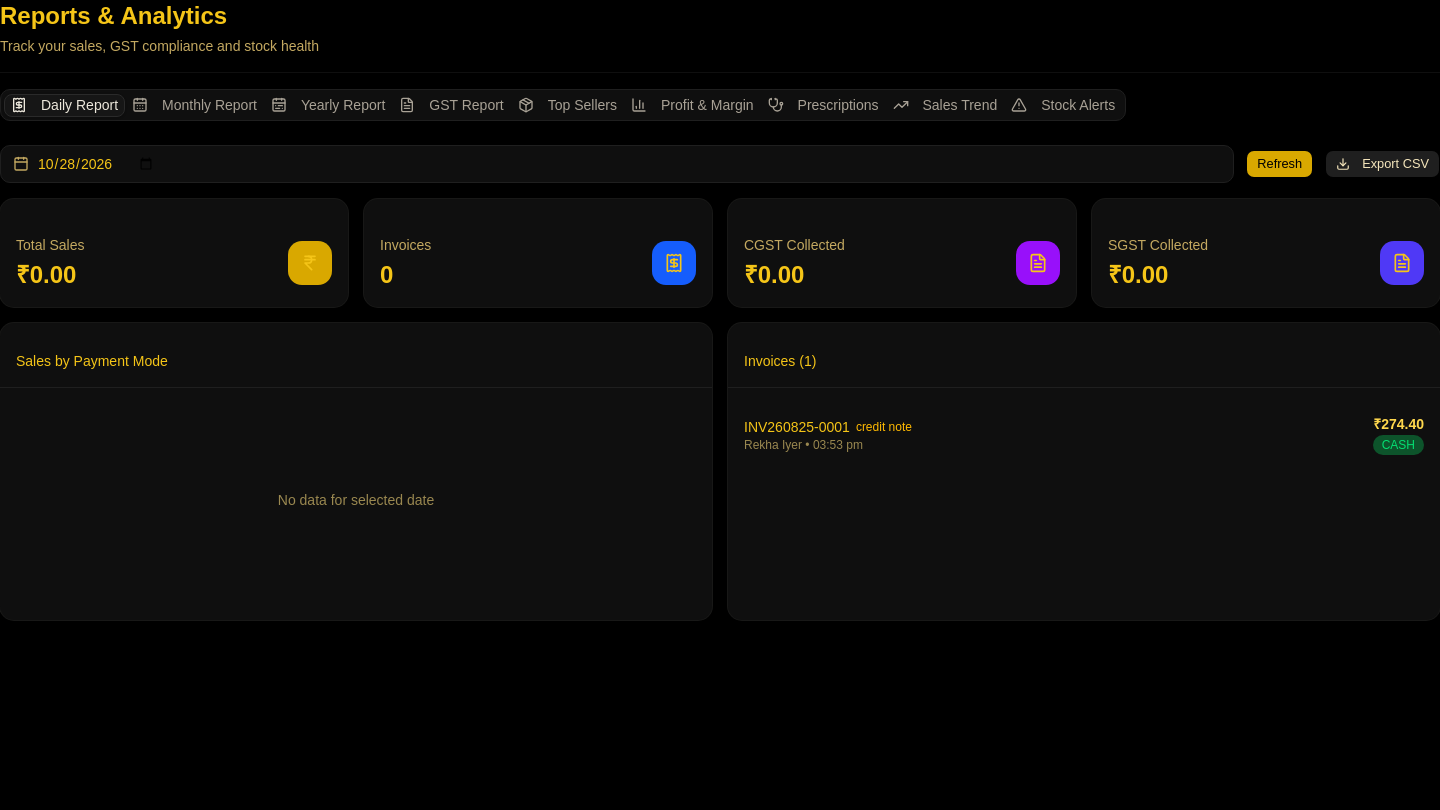
Reports — nothing to return › says why on a credit note
Click the button with aria-label "Invoice INV260825-0001". click: x=797, y=426
box: top-left (728, 404), bottom-right (1439, 465)
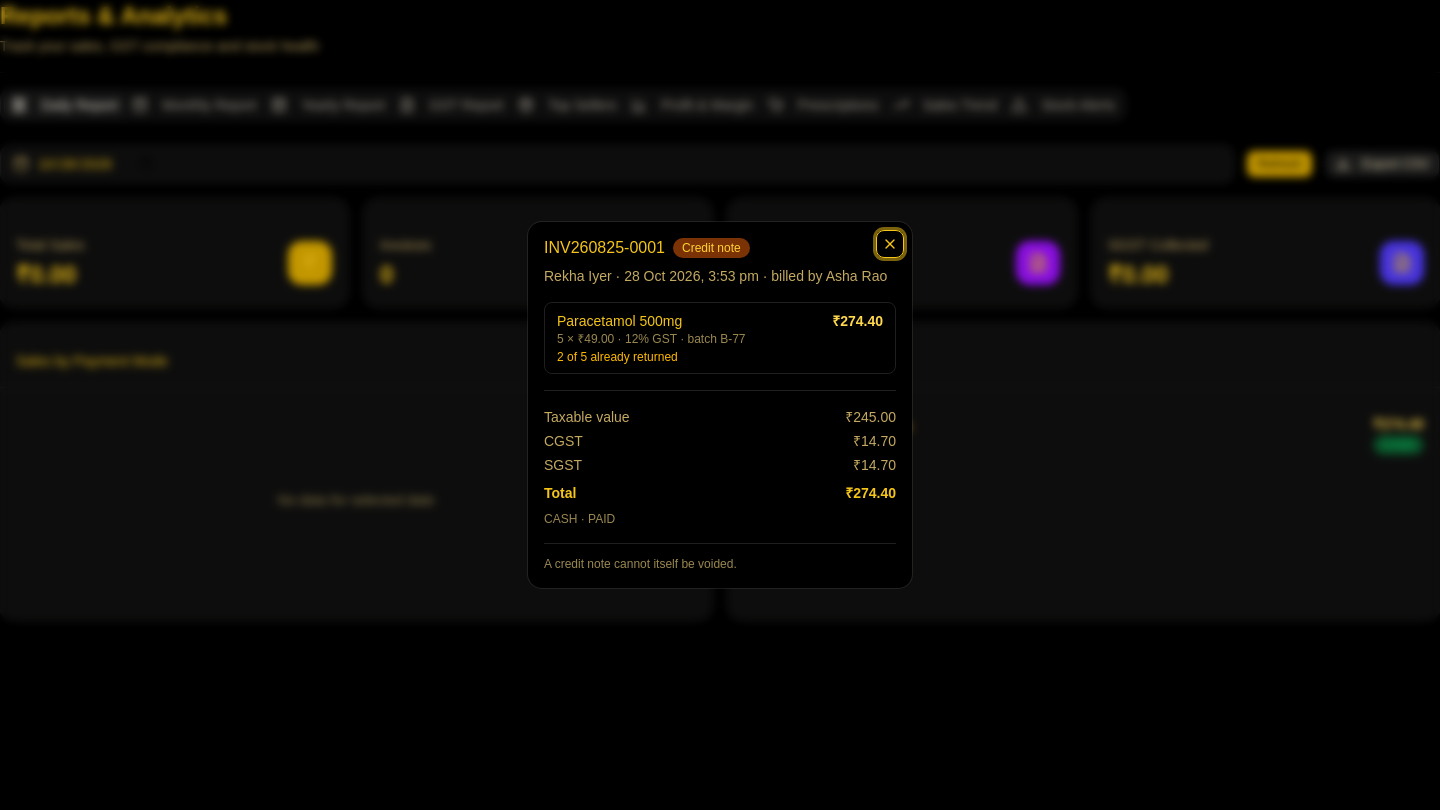
Expected: the text "A credit note cannot itself be voided." is shown, top-left (544, 543), bottom-right (896, 572)
